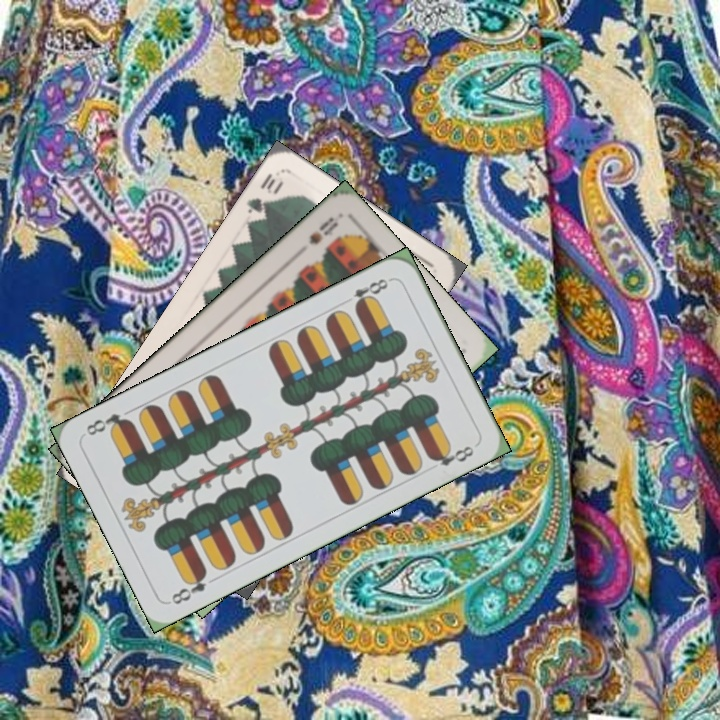E8: (339, 274, 394, 312), (167, 567, 210, 607)
G10: (243, 169, 287, 225)
S8: (304, 213, 341, 247)
